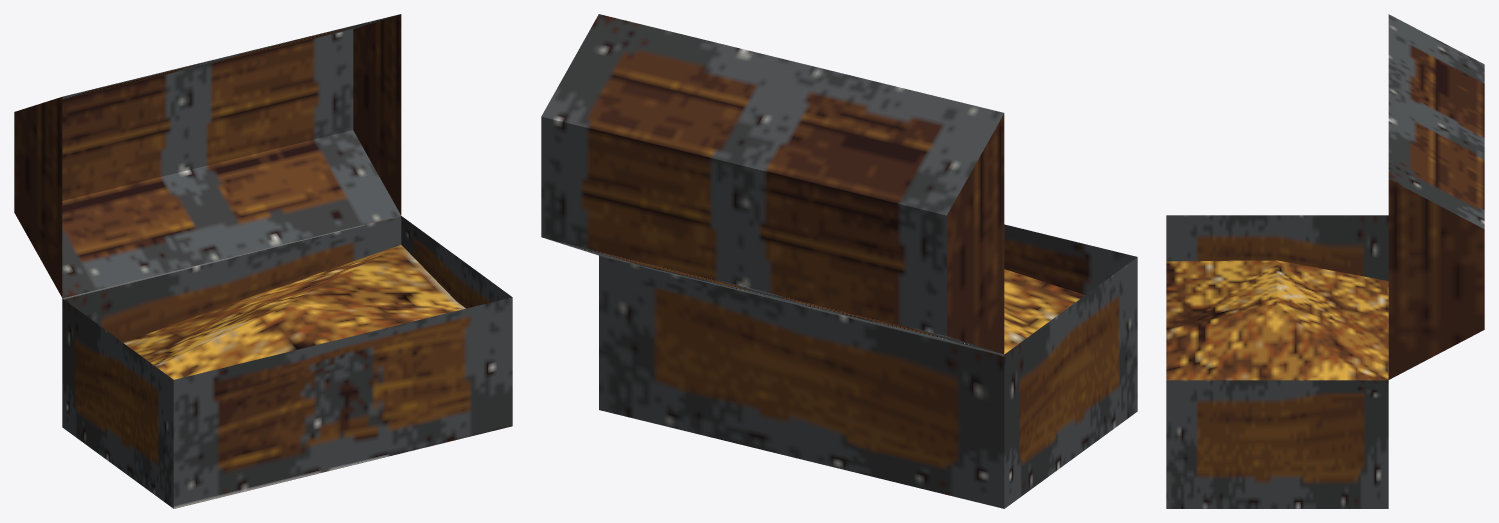
Rendered from SM_Dungeon_Chest_Open_Gold.fbx.
The picture shows the model from 3 angles, left to right: view 1: azimuth 30°, elevation 25°; view 2: azimuth 150°, elevation 25°; view 3: azimuth 270°, elevation 25°; orthographic projection. The views are drawn at different scales.
Parts seen in each view (by area): view 1: SM_Dungeon_Chest_Open_Gold; view 2: SM_Dungeon_Chest_Open_Gold; view 3: SM_Dungeon_Chest_Open_Gold.
Boxes of the visible parts, left/top/right/bottom form: SM_Dungeon_Chest_Open_Gold: left=14, top=14, right=512, bottom=508; SM_Dungeon_Chest_Open_Gold: left=541, top=14, right=1137, bottom=508; SM_Dungeon_Chest_Open_Gold: left=1166, top=14, right=1484, bottom=508.
Bounding box in the file's own units: 94.01 × 87.72 × 76.63.
